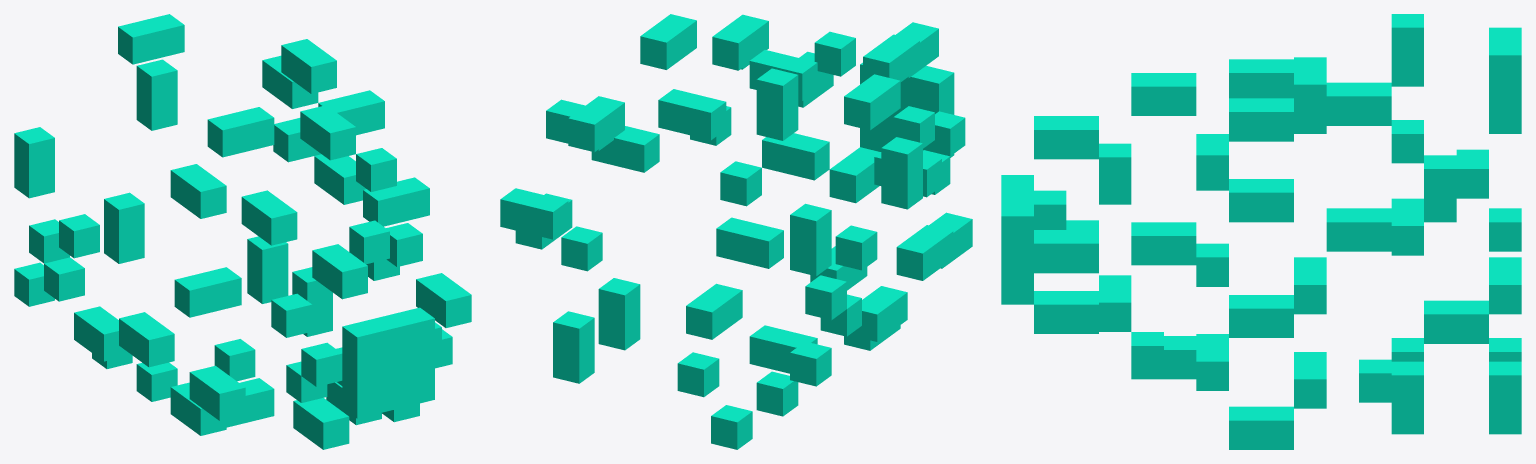
Rendered from RifleFeedback.fbx.
The picture shows the model from 3 angles, left to right: view 1: azimuth 30°, elevation 25°; view 2: azimuth 150°, elevation 25°; view 3: azimuth 270°, elevation 25°; orthographic projection. The views are drawn at different scales.
Parts seen in each view (by area): view 1: RifleFeedback; view 2: RifleFeedback; view 3: RifleFeedback.
Part boxes in pixels (x1,y1,x2,y2): RifleFeedback: (14,14,471,449); RifleFeedback: (500,14,972,449); RifleFeedback: (1001,14,1521,449).
Size of the model in its own units: 12 by 12 by 16.
